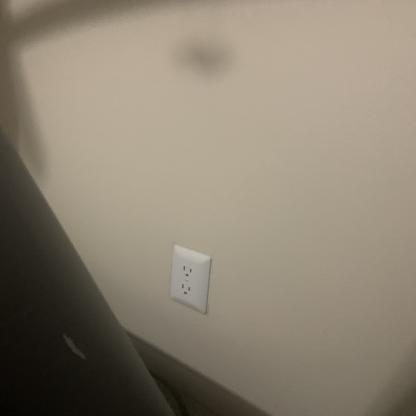OUTLET: (170, 246, 210, 314)
